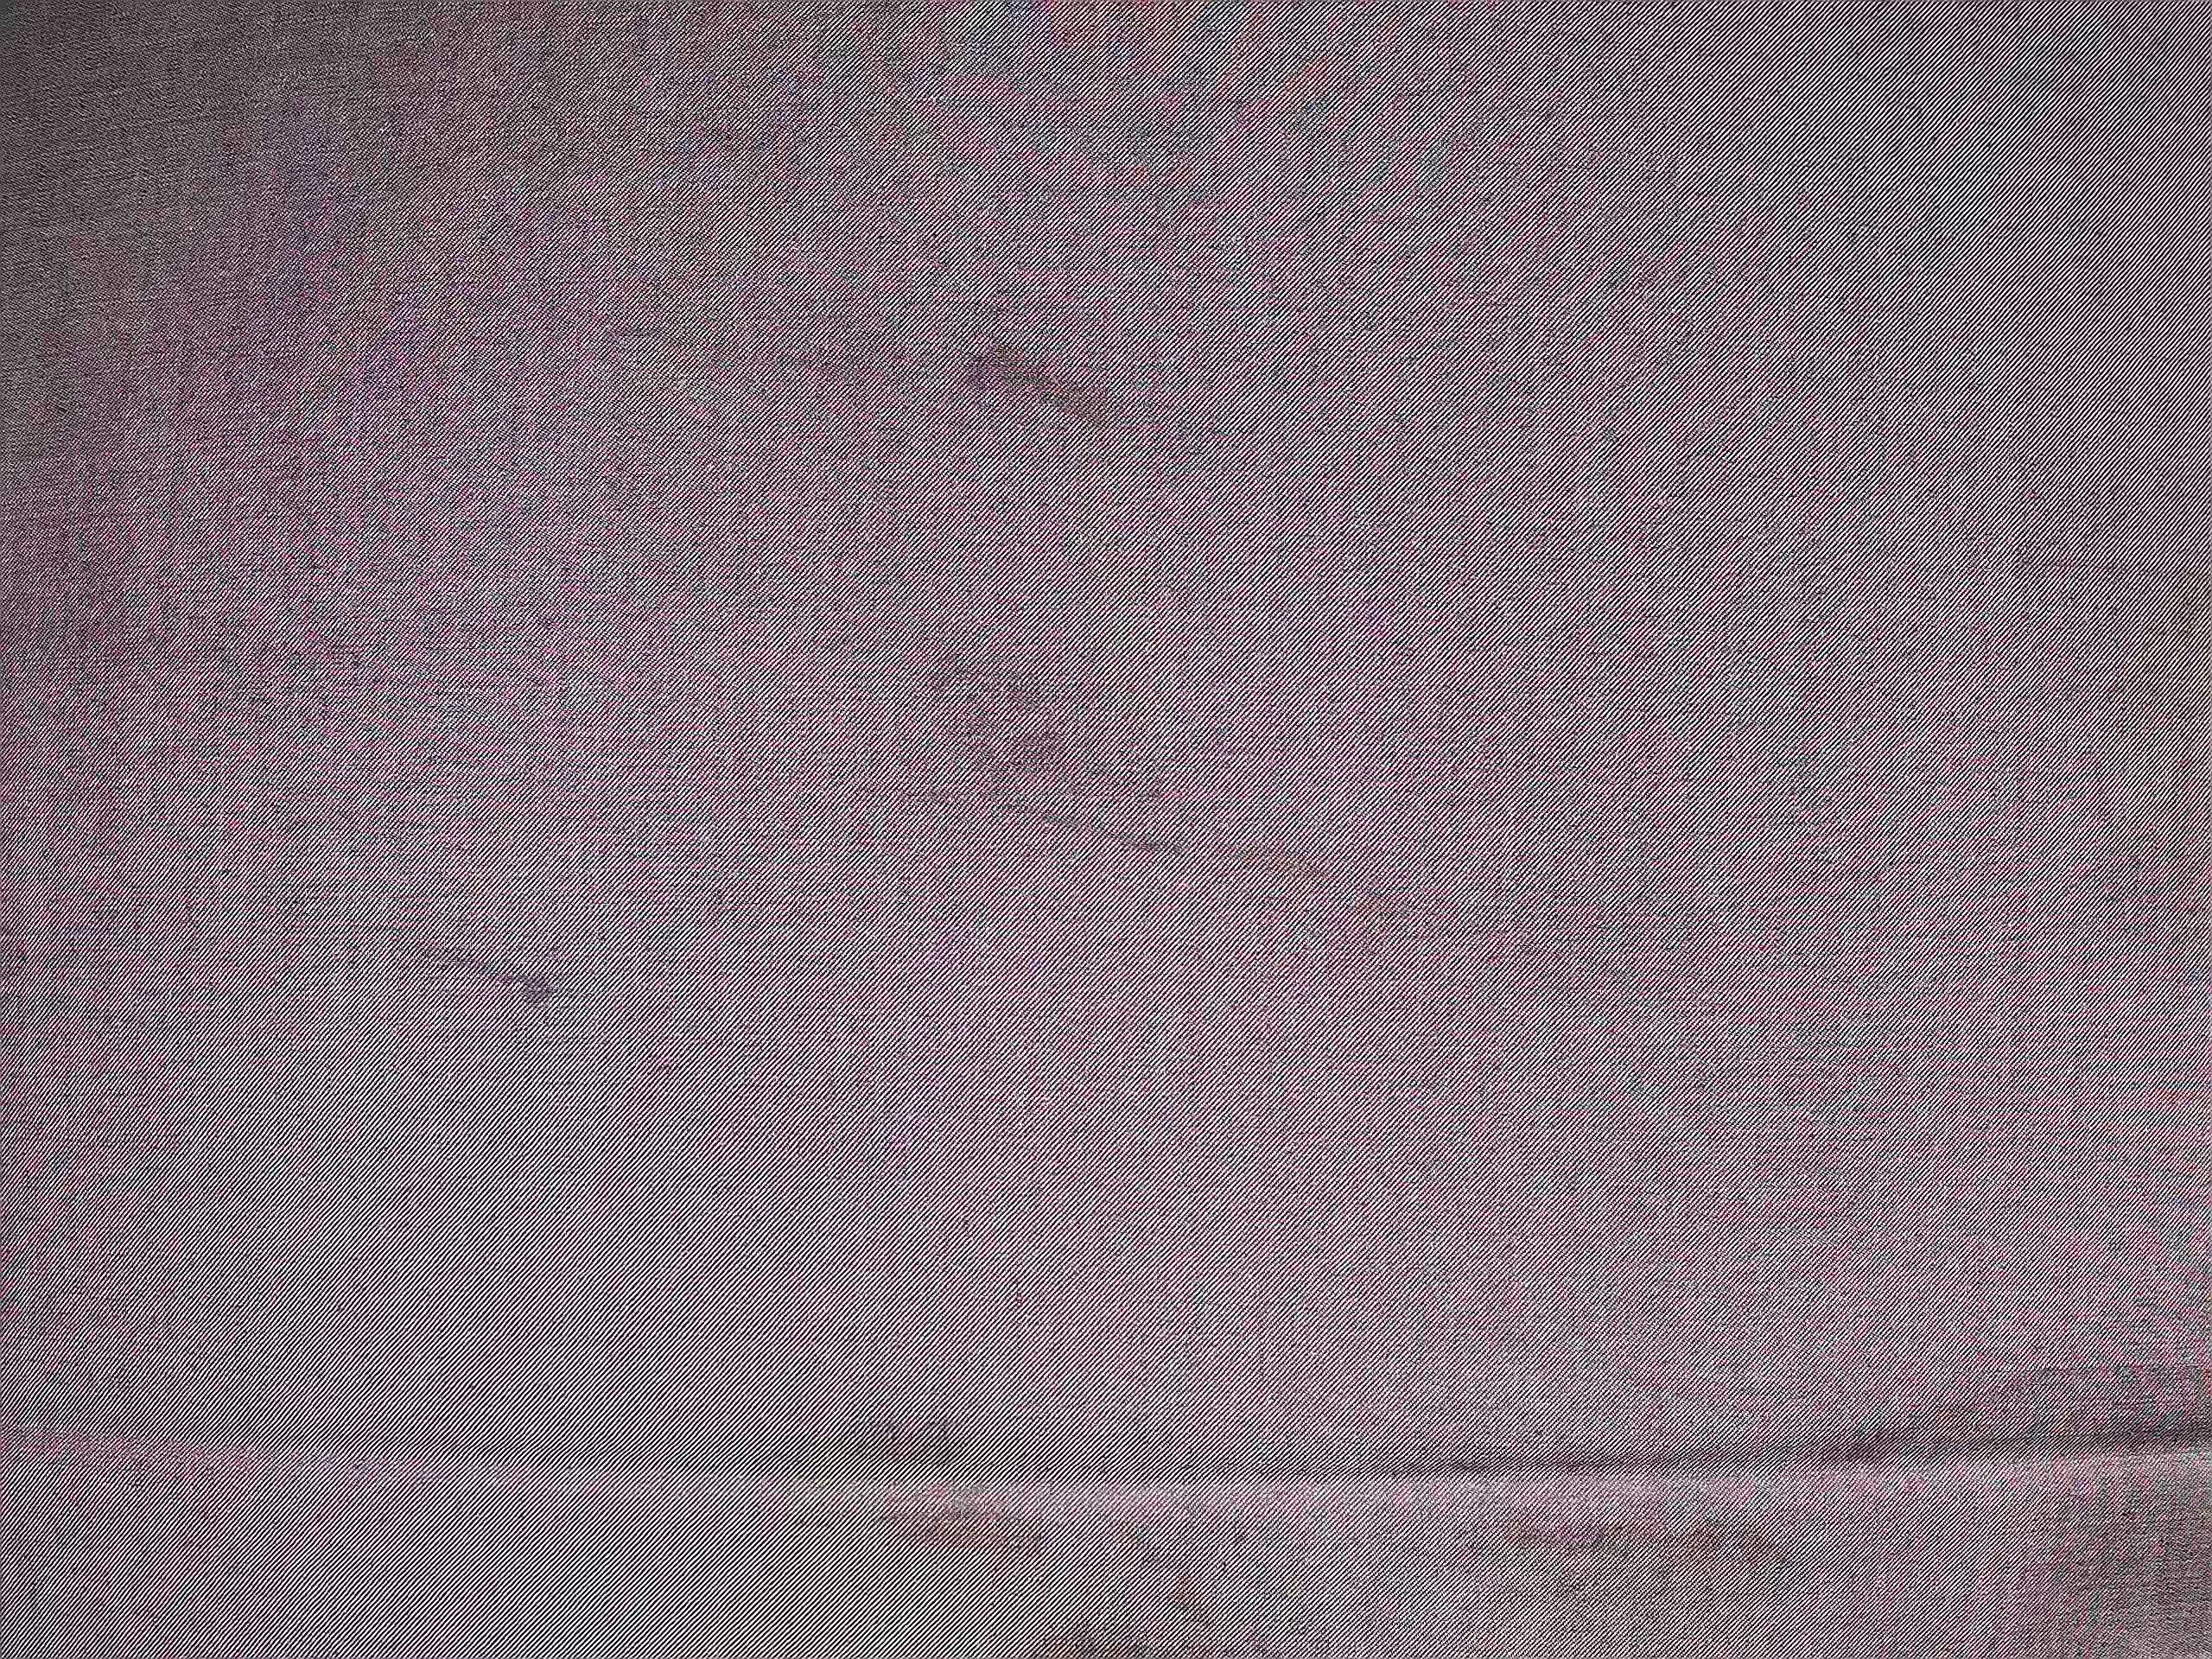stains: (1543, 1353, 2212, 1652), (909, 636, 1183, 874), (894, 295, 1180, 463), (833, 1382, 1075, 1579), (401, 908, 584, 1037)
